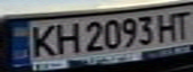0: (103, 16, 124, 52)
2: (81, 18, 106, 54)
3: (136, 12, 160, 46)
9: (118, 16, 142, 50)
H: (151, 10, 184, 43), (51, 20, 81, 56)
K: (24, 21, 60, 60)
T: (169, 8, 193, 41)
